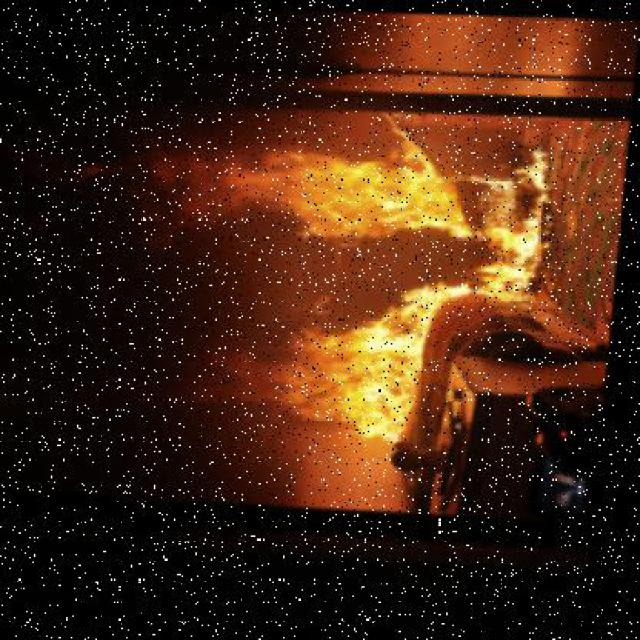fire: (156, 277, 491, 451), (151, 133, 574, 253)
